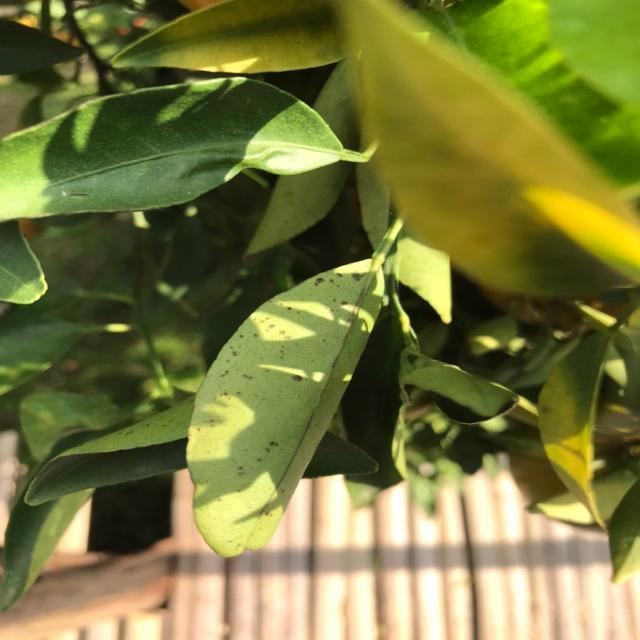melanose: (144, 253, 395, 557)
